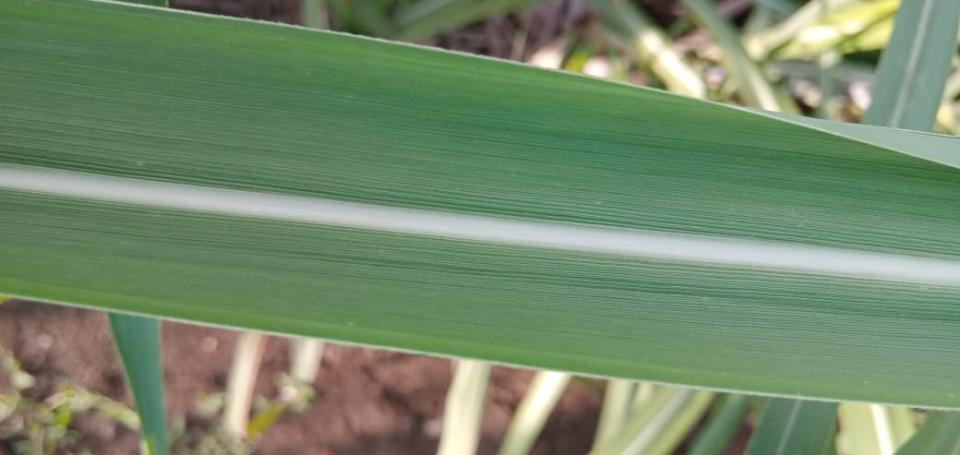Healthy: (0, 0, 959, 256), (0, 187, 959, 408), (704, 101, 959, 170), (864, 0, 928, 126), (902, 0, 959, 130), (786, 398, 838, 454), (745, 399, 796, 454)
